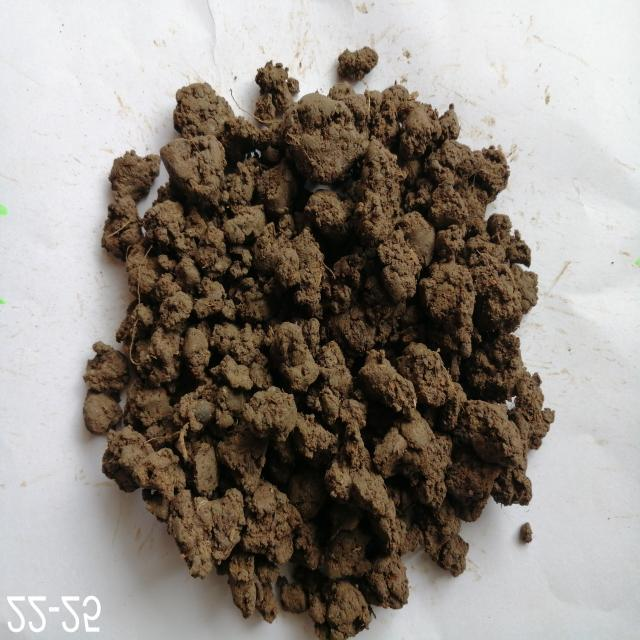soil: (170, 133, 486, 518)
